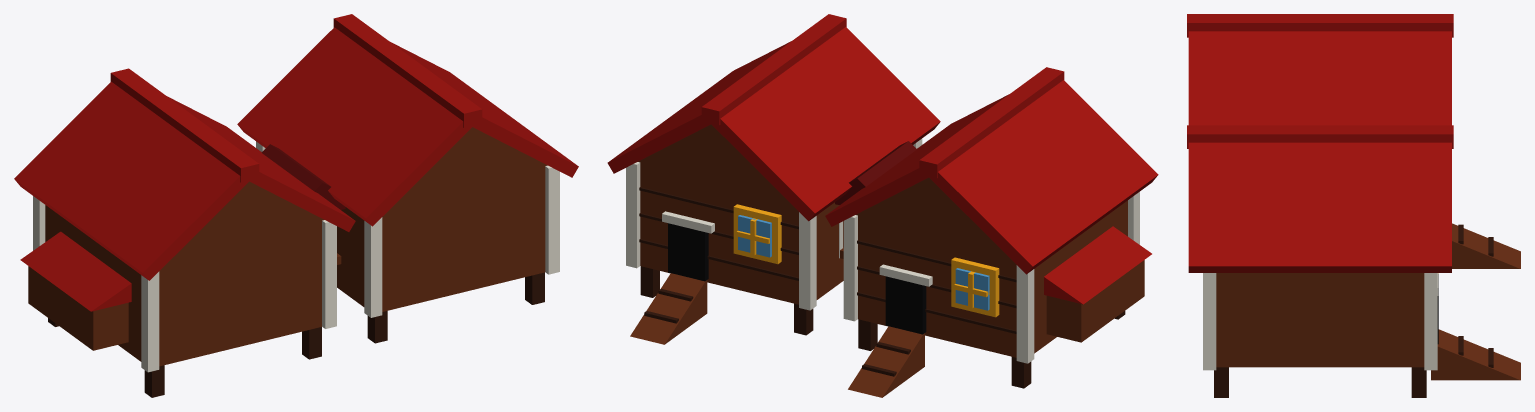
The model's file is TwinCoop.obj.
3 views of the same model, side by side, from view 1: azimuth 30°, elevation 25°; view 2: azimuth 150°, elevation 25°; view 3: azimuth 270°, elevation 25° (orthographic). The views are drawn at different scales.
Visible parts, largest first — view 1: TwinCoop; view 2: TwinCoop; view 3: TwinCoop.
Boxes of the visible parts, <box> form: TwinCoop: <box>14,14,578,397</box>; TwinCoop: <box>607,14,1158,397</box>; TwinCoop: <box>1187,14,1520,397</box>.
Bounding box in the file's own units: 5.07 × 2.33 × 3.12.
